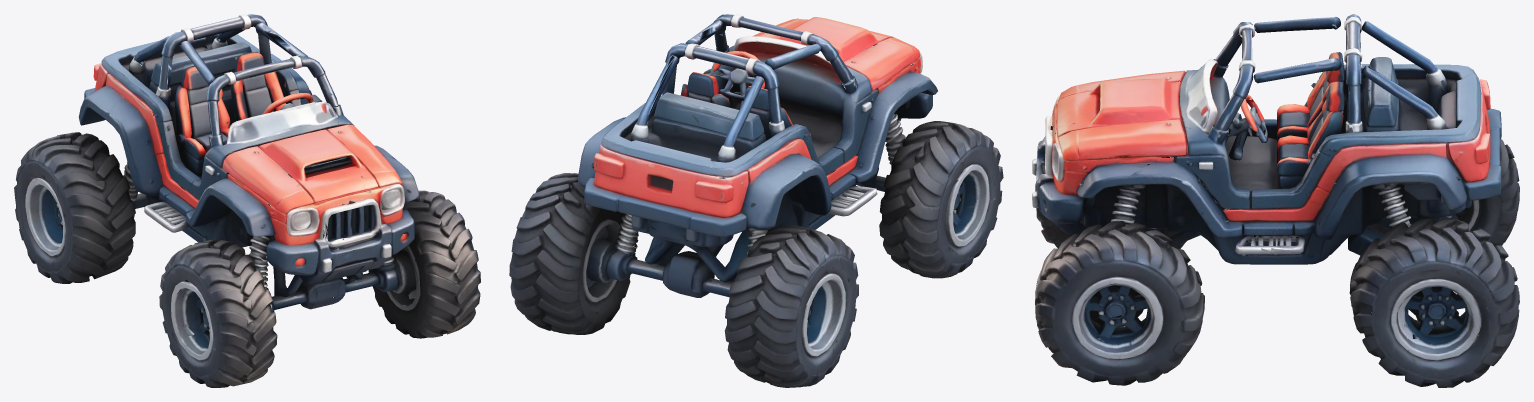
Rendered from titan.glb.
3 views of the same model, side by side, from view 1: azimuth 30°, elevation 25°; view 2: azimuth 150°, elevation 25°; view 3: azimuth 270°, elevation 25° (orthographic). The views are drawn at different scales.
Parts seen in each view (by area): view 1: model; view 2: model; view 3: model.
Part boxes in pixels (<box>): model: <box>14,14,480,387</box>; model: <box>509,14,1003,387</box>; model: <box>1032,14,1519,387</box>.
Size of the model in its own units: 1.36 by 1.23 by 1.89.
1 material, 1 textured.
